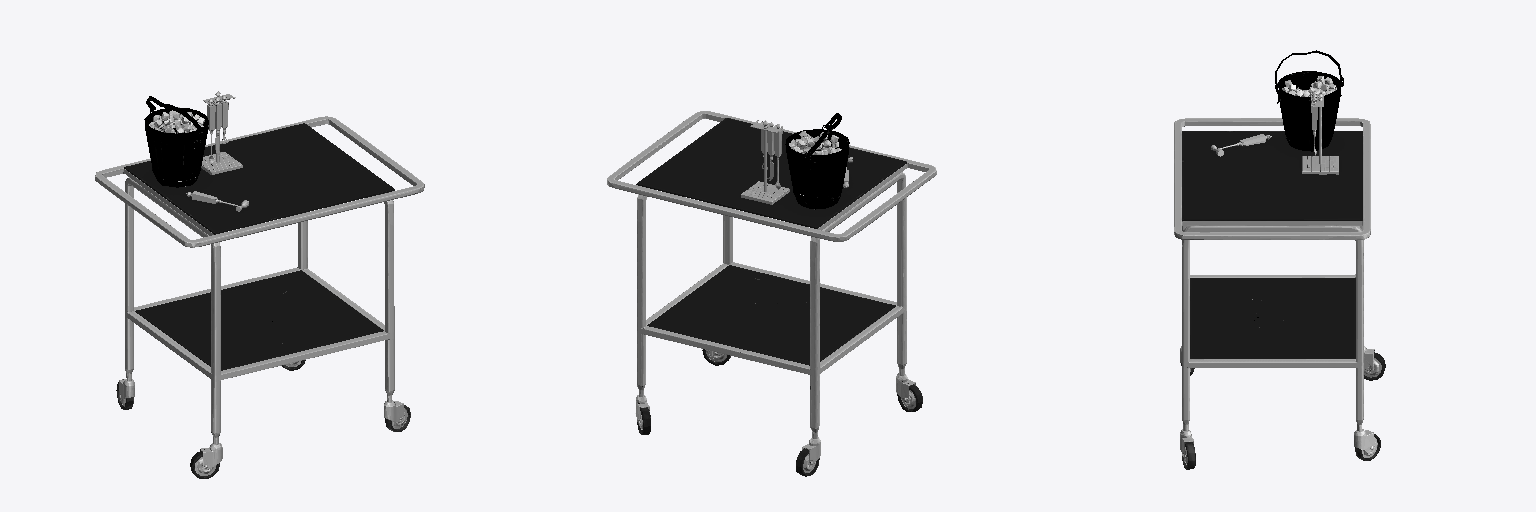
The picture shows the model from 3 angles: view 1: azimuth 30°, elevation 25°; view 2: azimuth 150°, elevation 25°; view 3: azimuth 270°, elevation 25°; orthographic projection.
Parts seen in each view (by area): view 1: solid_005, solid_001, solid_003, solid_002, solid_007; view 2: solid_005, solid_001, solid_003, solid_007, solid_002; view 3: solid_005, solid_001, solid_003, solid_007, solid_002.
Boxes of the visible parts, x1,y1,x2,y2 form: solid_005: [124, 123, 394, 370]; solid_001: [95, 91, 424, 470]; solid_003: [144, 96, 208, 187]; solid_002: [149, 107, 204, 133]; solid_007: [116, 360, 410, 478]; solid_005: [636, 118, 906, 365]; solid_001: [607, 111, 936, 466]; solid_003: [785, 113, 849, 209]; solid_007: [637, 349, 922, 476]; solid_002: [789, 131, 841, 154]; solid_005: [1182, 131, 1362, 358]; solid_001: [1174, 91, 1374, 458]; solid_003: [1275, 50, 1343, 151]; solid_007: [1181, 352, 1385, 469]; solid_002: [1282, 76, 1336, 96].
Size of the model in its own units: 0.9591 by 1.26 by 0.7303.
1 materials, 1 textured.